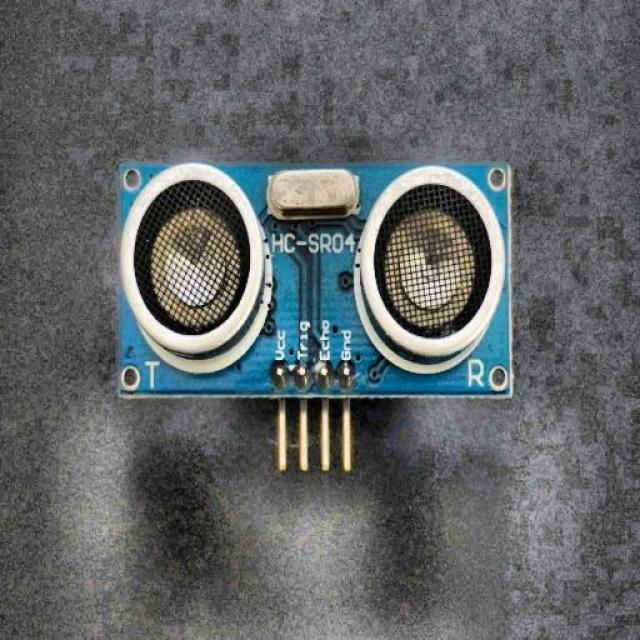Ultrasonic Sensor: (89, 147, 534, 478)
